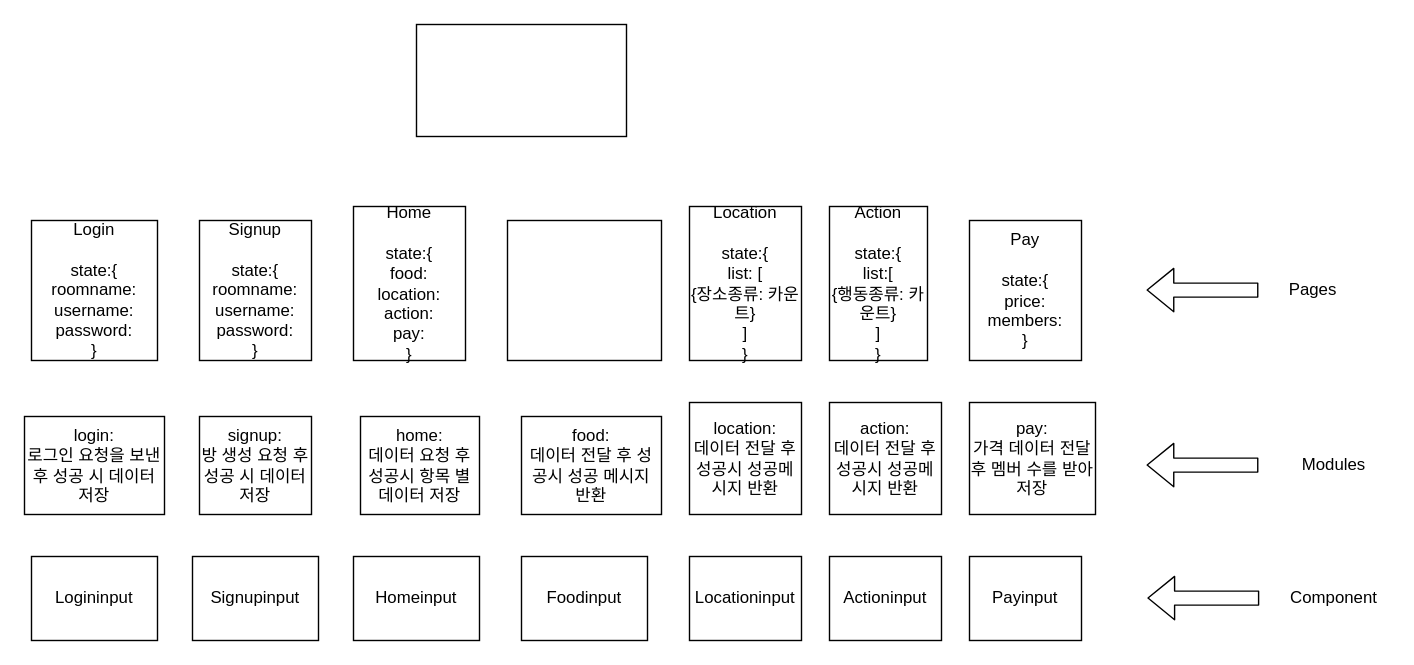
The diagram is 1414 pixels wide and 665 high, and some of its shapes have lost their labels. Each missing label, with the centre of its shape:
"App.js" goes at (520,79).
"Food state:{ list: [ {음식종류: 카운트} ] }" goes at (584,289).
